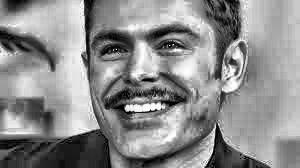happy: (80, 0, 241, 168)
